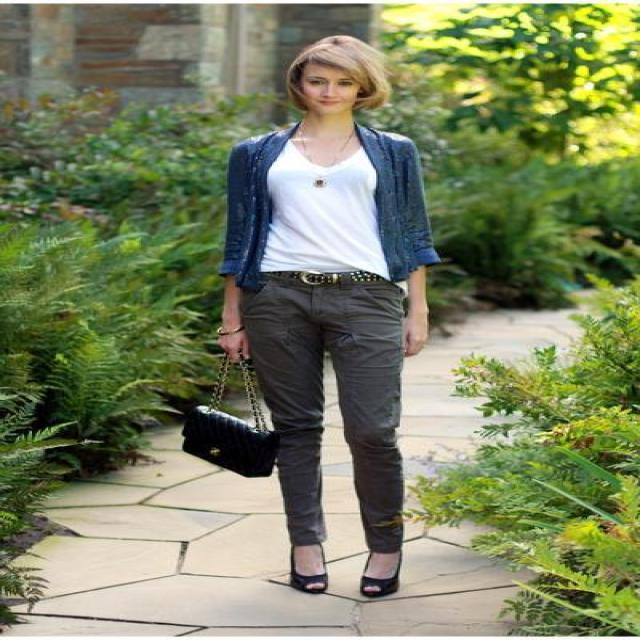bag: (178, 413, 280, 477)
jacket: (219, 130, 440, 292)
pants: (238, 290, 413, 549)
shirt: (261, 141, 389, 279)
shoe: (288, 550, 397, 598)
